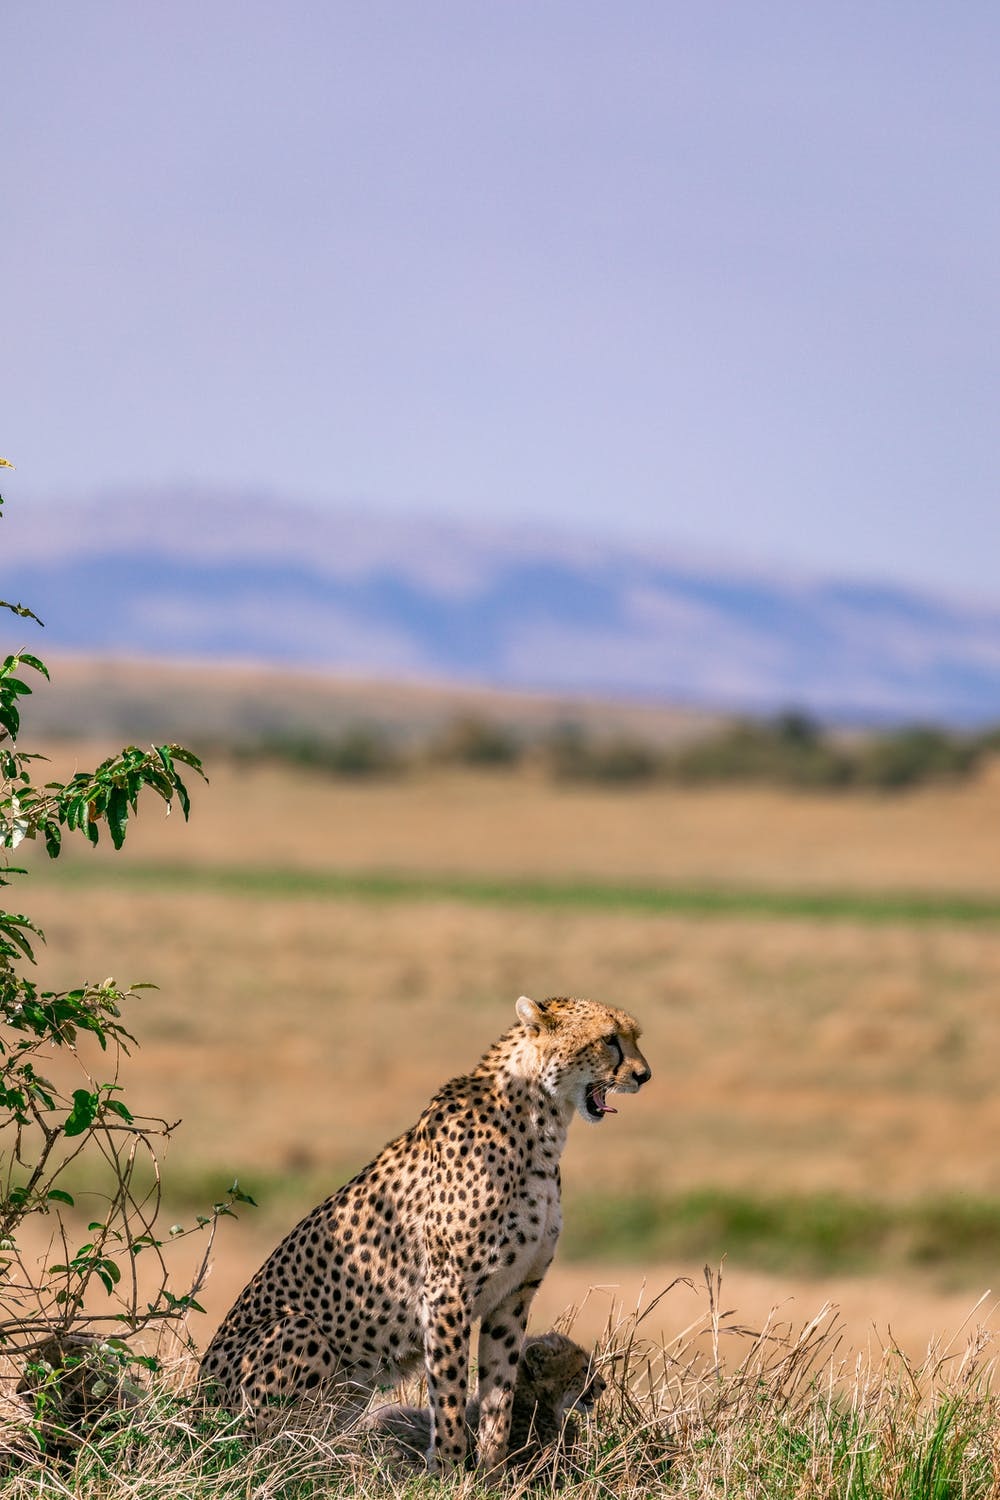cheetah: (496, 975, 665, 1148)
